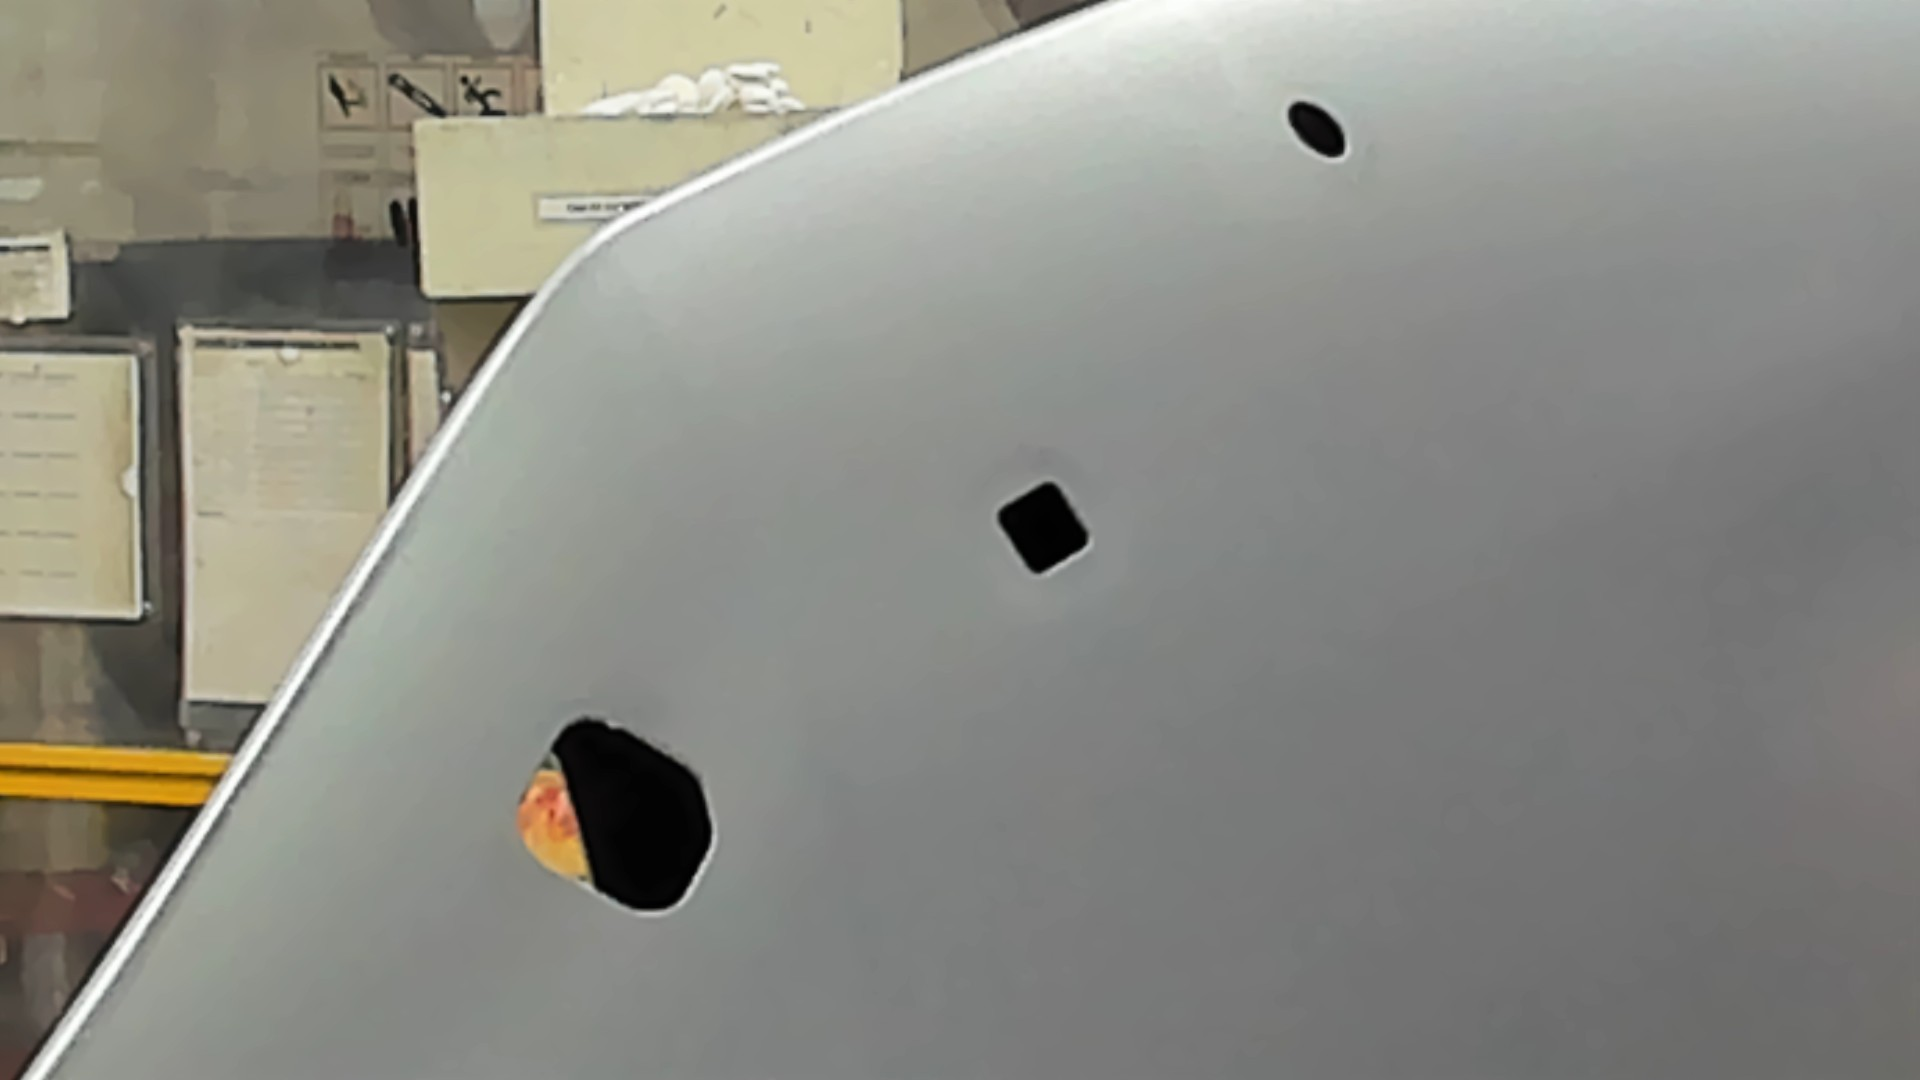capo: (1096, 160, 1920, 1080)
chico: (1279, 92, 1354, 161)
grande: (502, 709, 721, 922)
mediano: (982, 469, 1095, 582)
